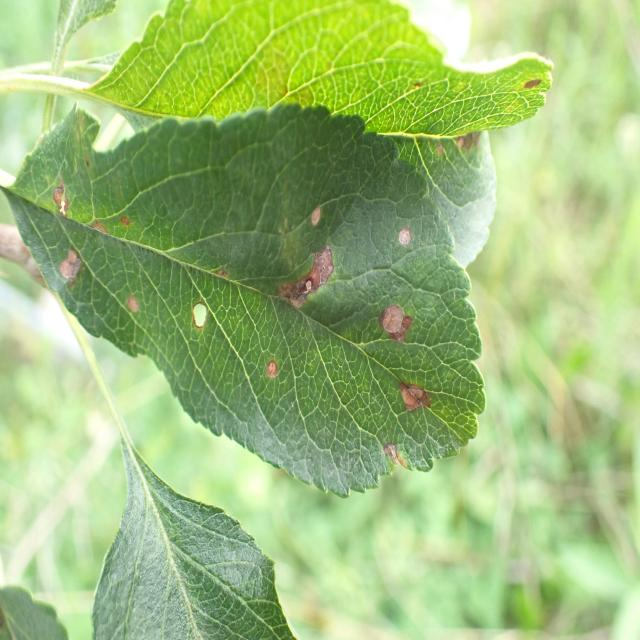Black Rot: (411, 99, 507, 192), (268, 236, 340, 318), (382, 368, 446, 421), (364, 297, 419, 348), (78, 207, 147, 247), (378, 430, 420, 491), (47, 160, 79, 227), (516, 60, 560, 108), (54, 242, 82, 303), (295, 194, 331, 240), (118, 276, 144, 336), (181, 290, 213, 333), (392, 221, 416, 263), (265, 343, 283, 393)
